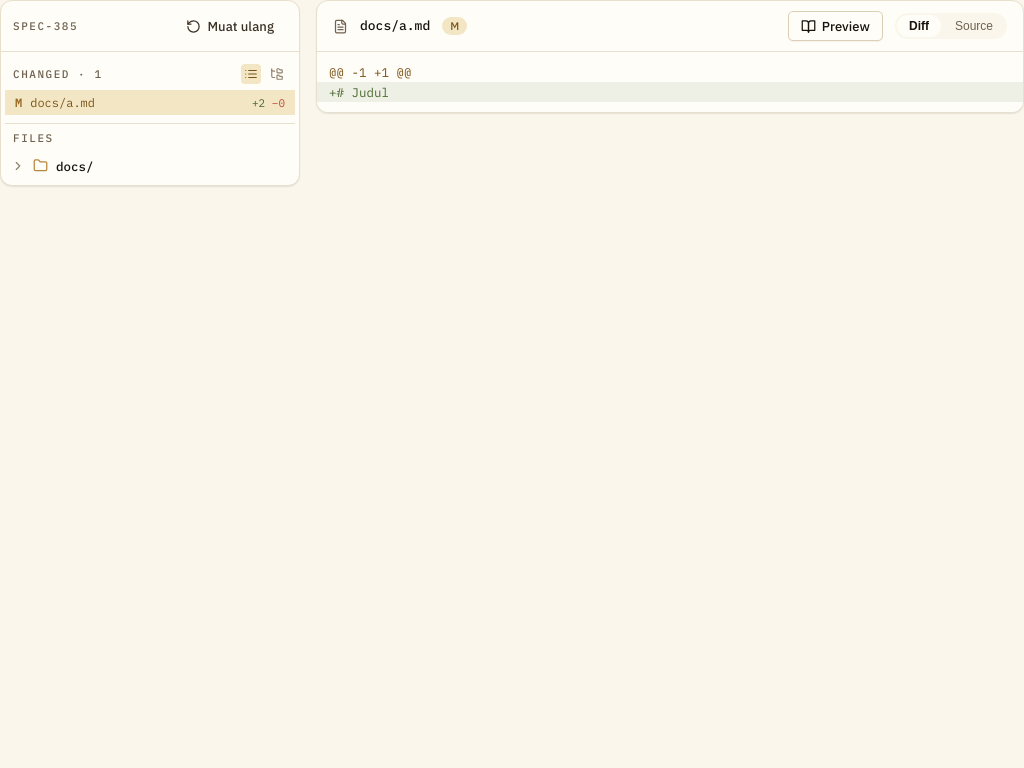
Test: ReviewScreen preview .md (SPEC-385) › tombol Preview membuka modal berisi markdown terender
This screenshot has width=1024, height=768.
Click the button "Preview" at (835, 26), box x1=788 y1=11 x2=883 y2=41
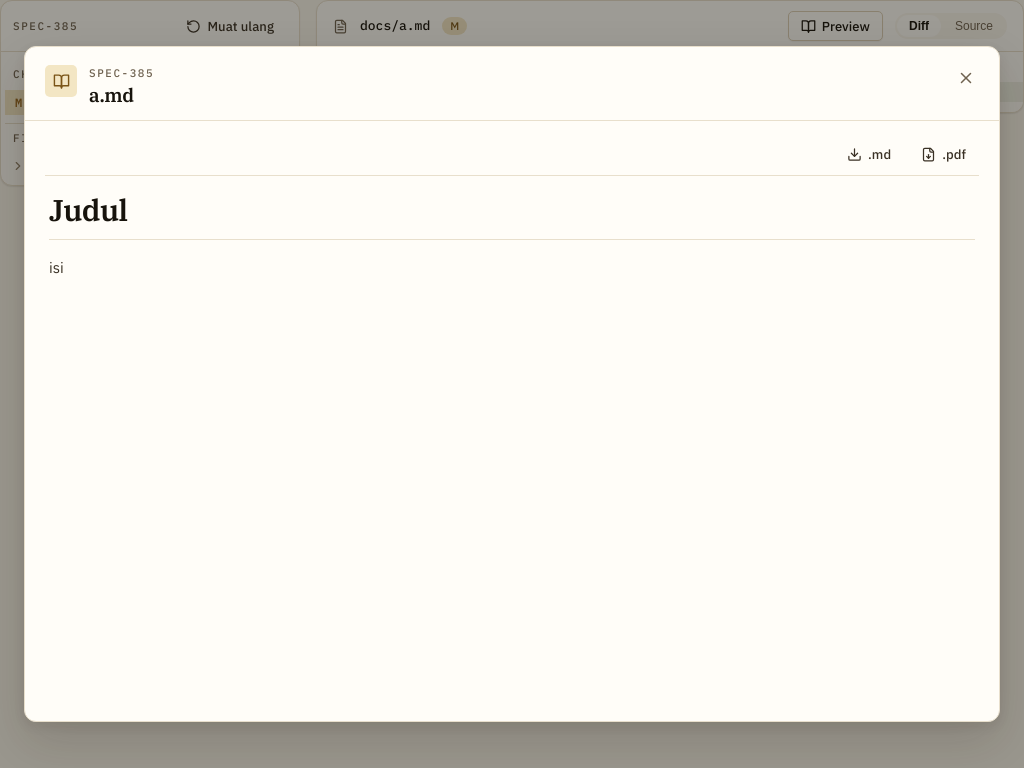
Expected: the heading "Judul" is shown, x1=49 y1=192 x2=975 y2=240
